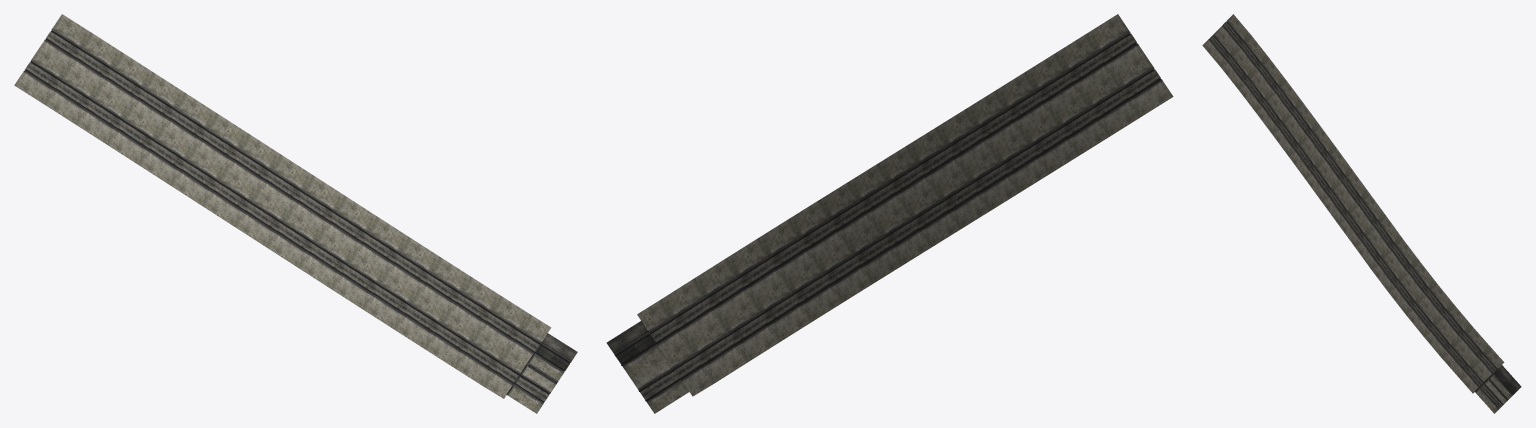
Rendered from trcks.fbx.
3 renders of one model, left to right at view 1: azimuth 30°, elevation 25°; view 2: azimuth 150°, elevation 25°; view 3: azimuth 330°, elevation 25°, orthographic. The views are drawn at different scales.
Parts seen in each view (by area): view 1: sc1_rd_trcks_01; view 2: sc1_rd_trcks_01; view 3: sc1_rd_trcks_01.
Boxes of the visible parts, box(x1,y1,x2,y2) form: sc1_rd_trcks_01: box(14, 14, 577, 413); sc1_rd_trcks_01: box(606, 14, 1173, 413); sc1_rd_trcks_01: box(1202, 14, 1521, 413).
Size of the model in its own units: 8317 by 7233 by 1029.
